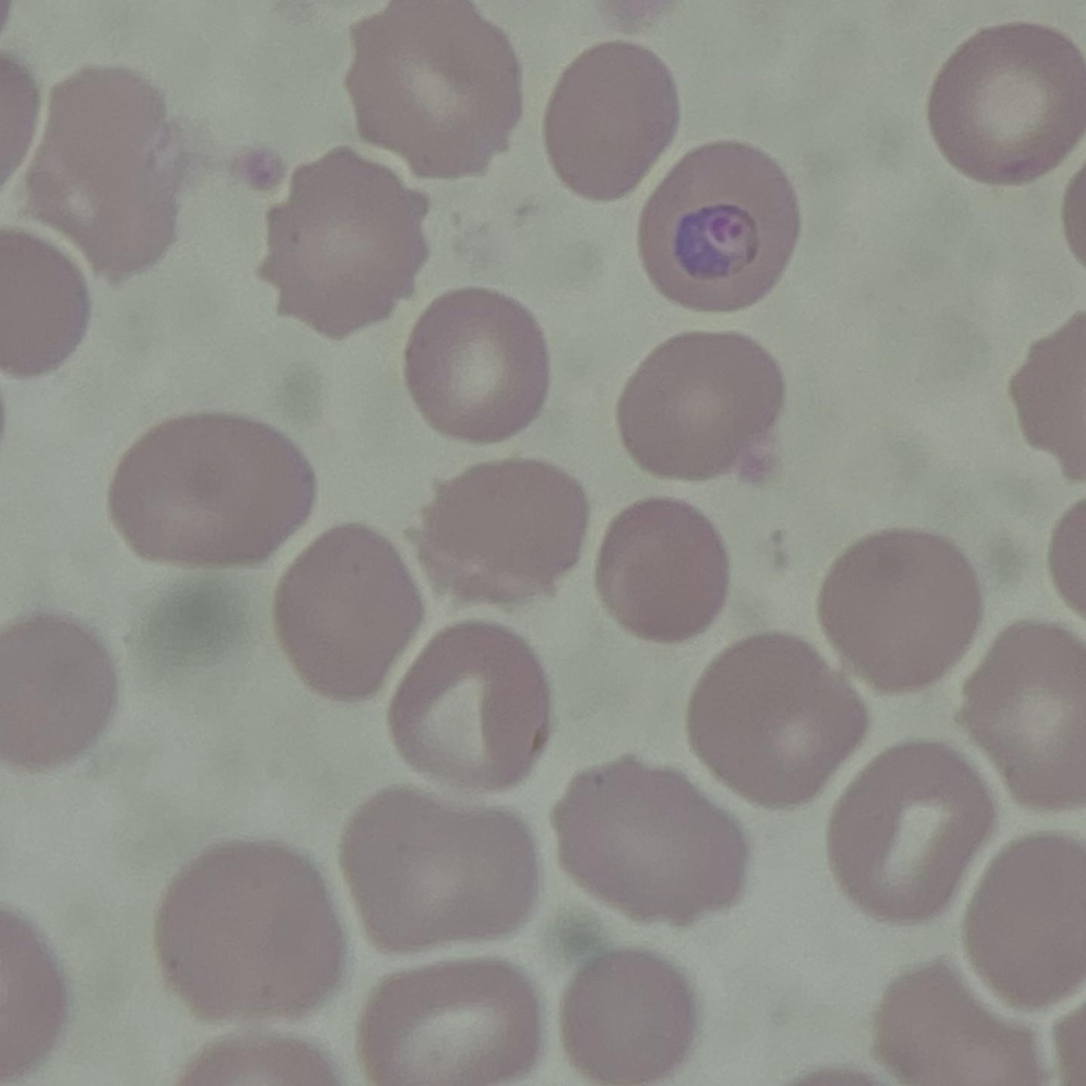Infected: (634, 140, 801, 315)
Uninfected: (154, 842, 345, 1018), (549, 756, 746, 923), (343, 786, 540, 951), (28, 66, 183, 274), (108, 412, 312, 568), (685, 633, 863, 808), (345, 4, 523, 178), (261, 153, 432, 332), (827, 743, 993, 917), (386, 622, 553, 793), (272, 525, 429, 701), (619, 328, 788, 484), (817, 529, 976, 690), (412, 458, 587, 604), (924, 22, 1085, 180), (358, 958, 540, 1086), (400, 288, 552, 440), (958, 623, 1084, 801), (540, 40, 681, 199), (595, 497, 734, 641), (876, 963, 1033, 1082), (968, 837, 1083, 998), (558, 950, 695, 1083), (0, 614, 114, 765)
